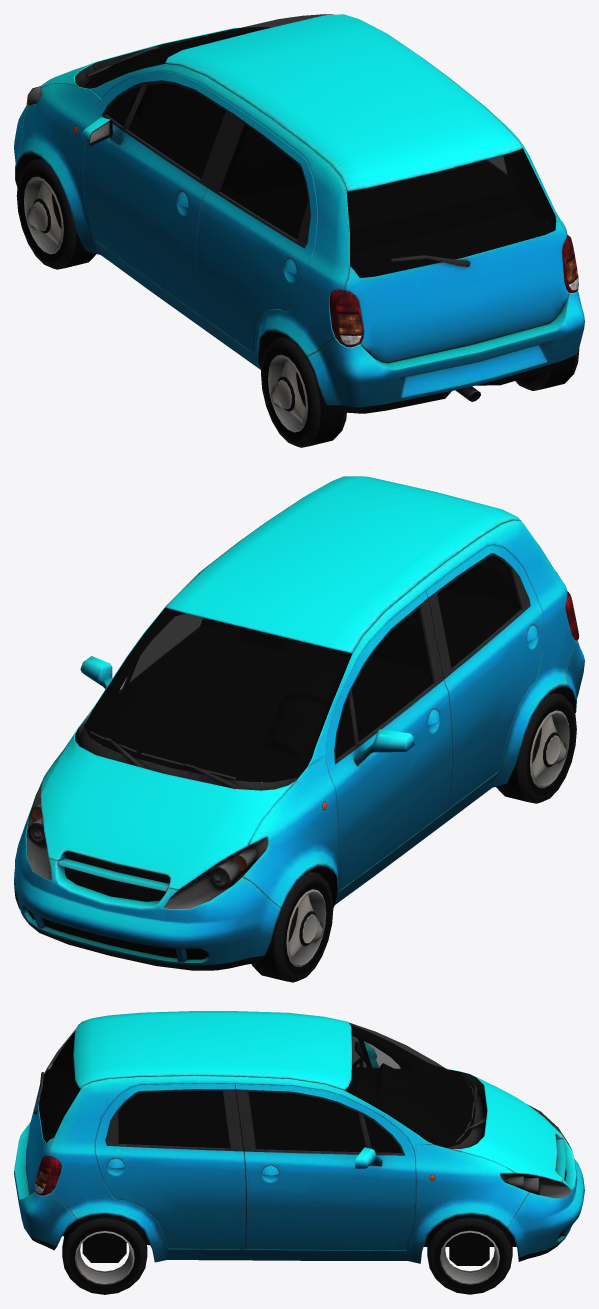
The model's file is compact.glb.
3 renders of one model, top to bottom at view 1: azimuth 30°, elevation 25°; view 2: azimuth 150°, elevation 25°; view 3: azimuth 270°, elevation 25°, orthographic. The views are drawn at different scales.
Visible parts, largest first — view 1: Compact_Body, wheel_1, wheel_0, wheel_3; view 2: Compact_Body, wheel_0, wheel_1; view 3: Compact_Body, wheel_3, wheel_2.
Part boxes in pixels (x1=…): Compact_Body: x1=14, y1=14, x2=584, y2=413; wheel_1: x1=261, y1=336, x2=346, y2=447; wheel_0: x1=16, y1=158, x2=96, y2=269; wheel_3: x1=515, y1=348, x2=579, y2=390; Compact_Body: x1=14, y1=476, x2=584, y2=970; wheel_0: x1=251, y1=870, x2=333, y2=982; wheel_1: x1=496, y1=691, x2=576, y2=803; Compact_Body: x1=14, y1=1011, x2=584, y2=1265; wheel_3: x1=62, y1=1214, x2=147, y2=1294; wheel_2: x1=427, y1=1214, x2=512, y2=1294.
Size of the model in its own units: 1.81 by 1.48 by 3.66.
4 materials, 3 textured.
